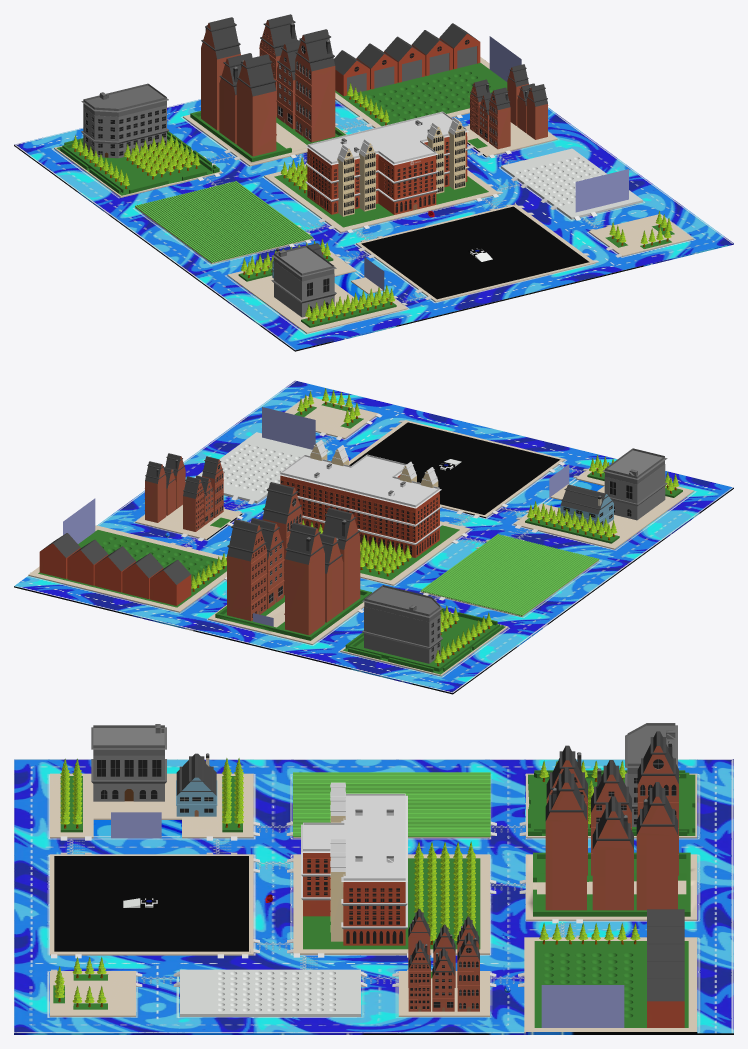
File: community-track.glb
3 views of the same model, one above another, from view 1: azimuth 30°, elevation 25°; view 2: azimuth 150°, elevation 25°; view 3: azimuth 270°, elevation 25° (orthographic). The views are drawn at different scales.
Parts seen in each view (by area): view 1: wh, Cube.005_Cube.002, Cylinder, Oasis Logo White@2x, Cube; view 2: wh, Cube.005_Cube.002, Cylinder, Oasis Logo White@2x, Cube; view 3: wh, Cube.005_Cube.002, Cylinder, Oasis Logo White@2x, Cube.
Boxes of the visible parts, x1,y1,x2,y2 form: wh: (14,36,733,351); Cube.005_Cube.002: (81,14,548,317); Cylinder: (71,82,672,323); Oasis Logo White@2x: (203,117,604,302); Cube: (197,114,621,305); wh: (14,380,733,694); Cube.005_Cube.002: (39,440,667,663); Cylinder: (191,388,679,666); Oasis Logo White@2x: (176,436,581,600); Cube: (170,413,588,612); wh: (14,759,733,1034); Cube.005_Cube.002: (91,723,684,1027); Cylinder: (54,758,679,1007); Oasis Logo White@2x: (67,825,575,983); Cube: (51,821,582,986).
Size of the model in its own units: 202 by 45.67 by 224.
Materials: 12 (10 with a texture image).
